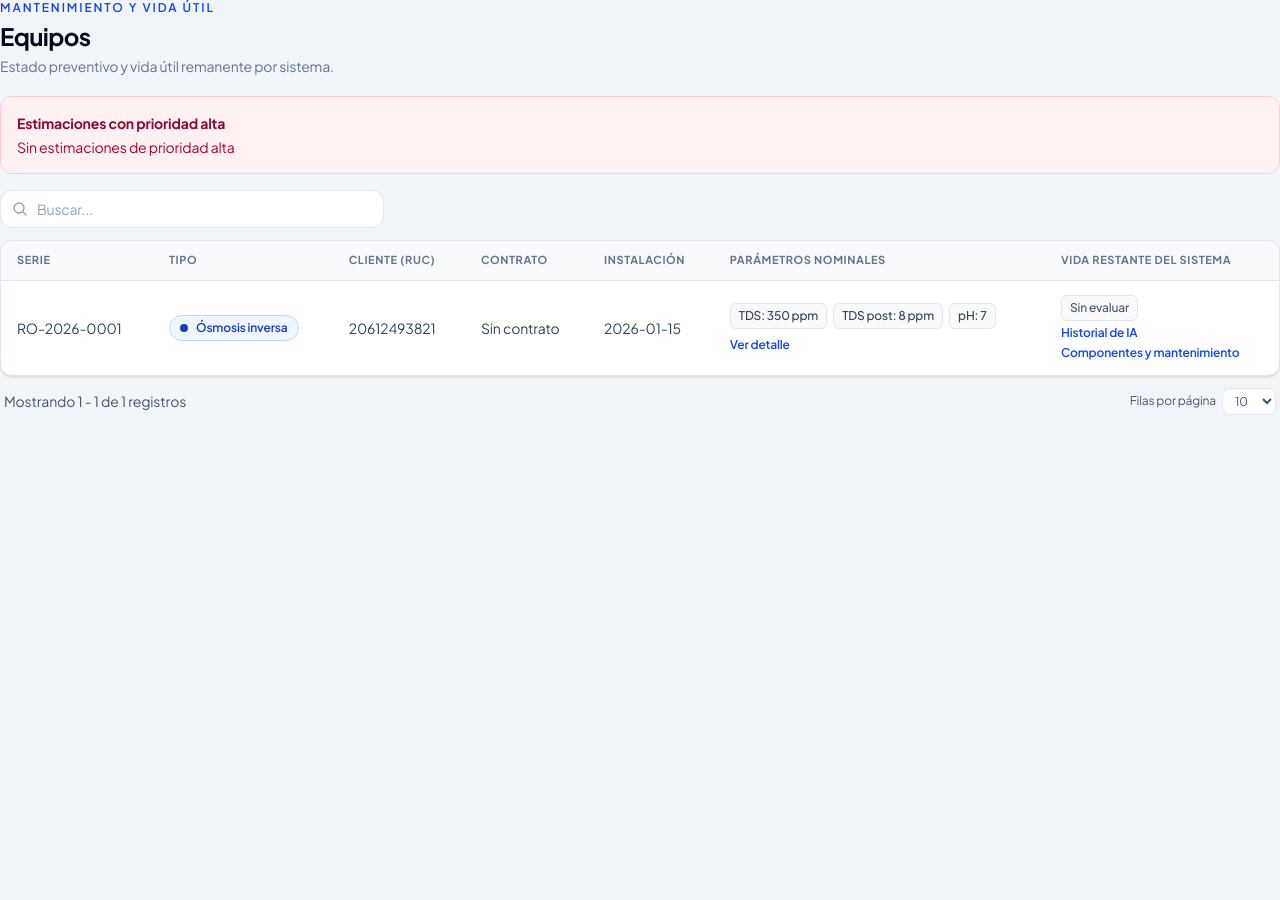
Test: EquiposPage › el detalle de parámetros nominales se ve en un modal, con etiquetas legibles
Expected: the text "RO-2026-0001" is shown, [1,280,153,375]
Click the button "Ver detalle": (760, 345) [730,337,790,353]
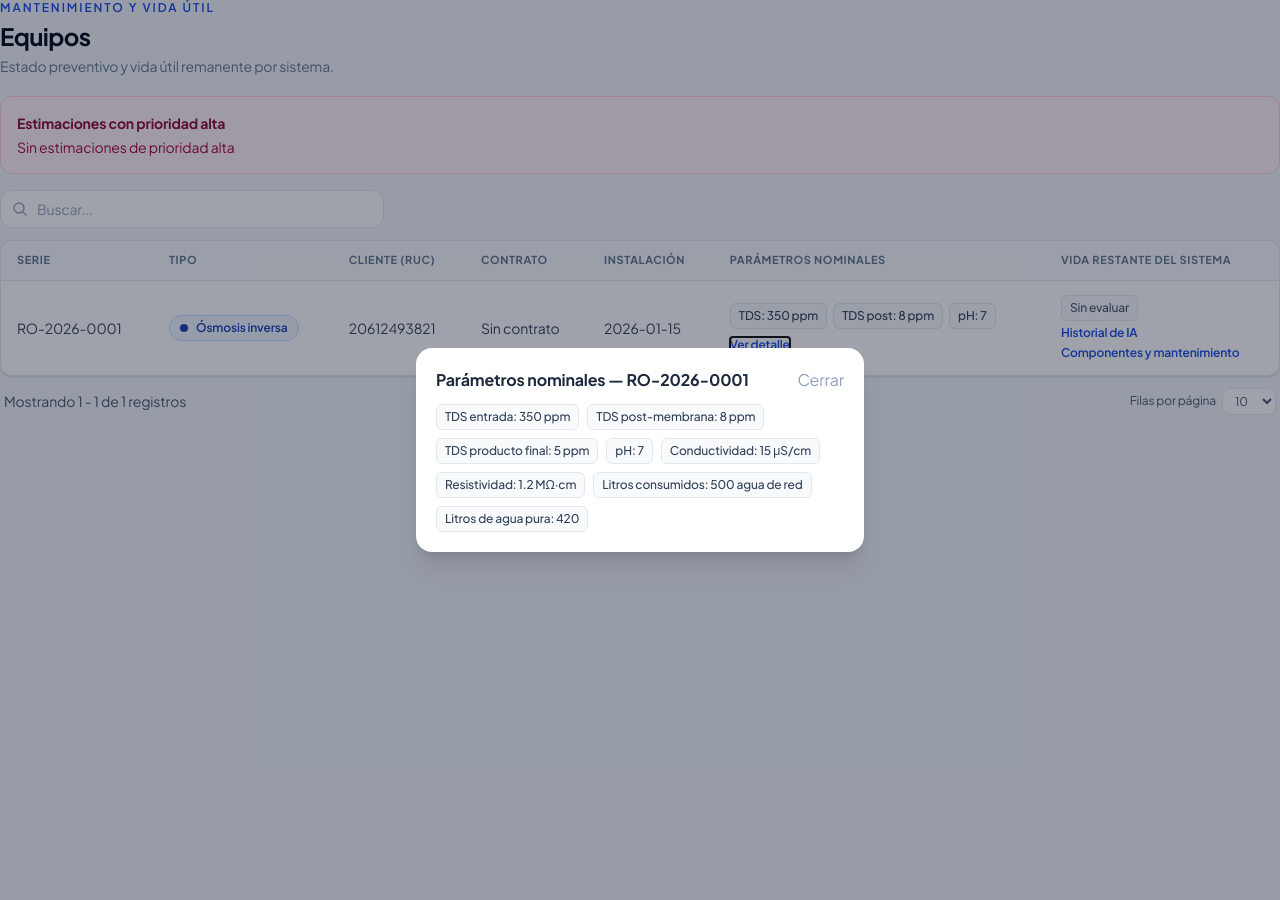
Expected: the text "TDS entrada: 350 ppm" is shown, [436,404,579,430]
Expected: the text "pH: 7" is shown, [606,438,653,464]
Click the button "Cerrar": (821, 380) [797,368,844,392]
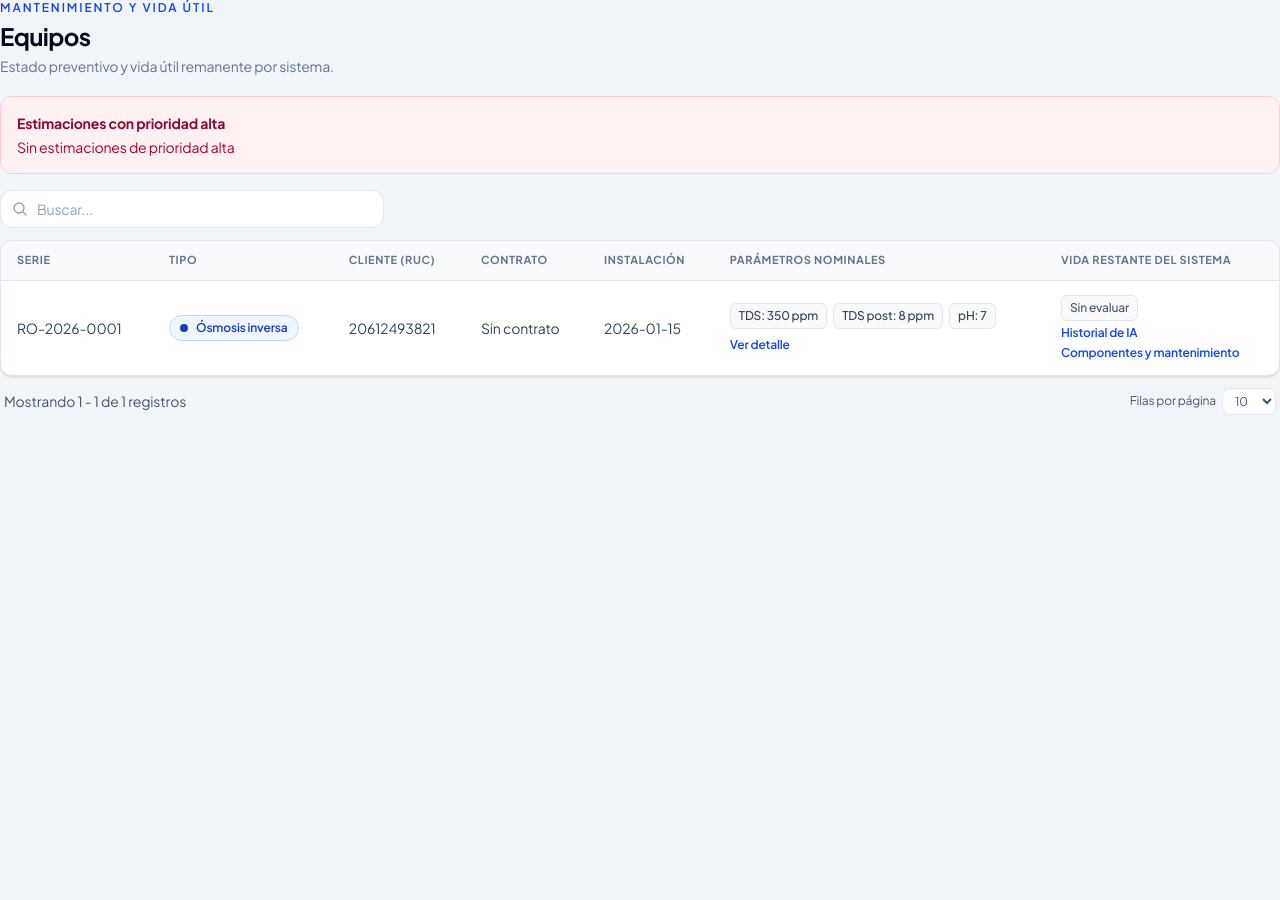
Expected: the dialog is gone
